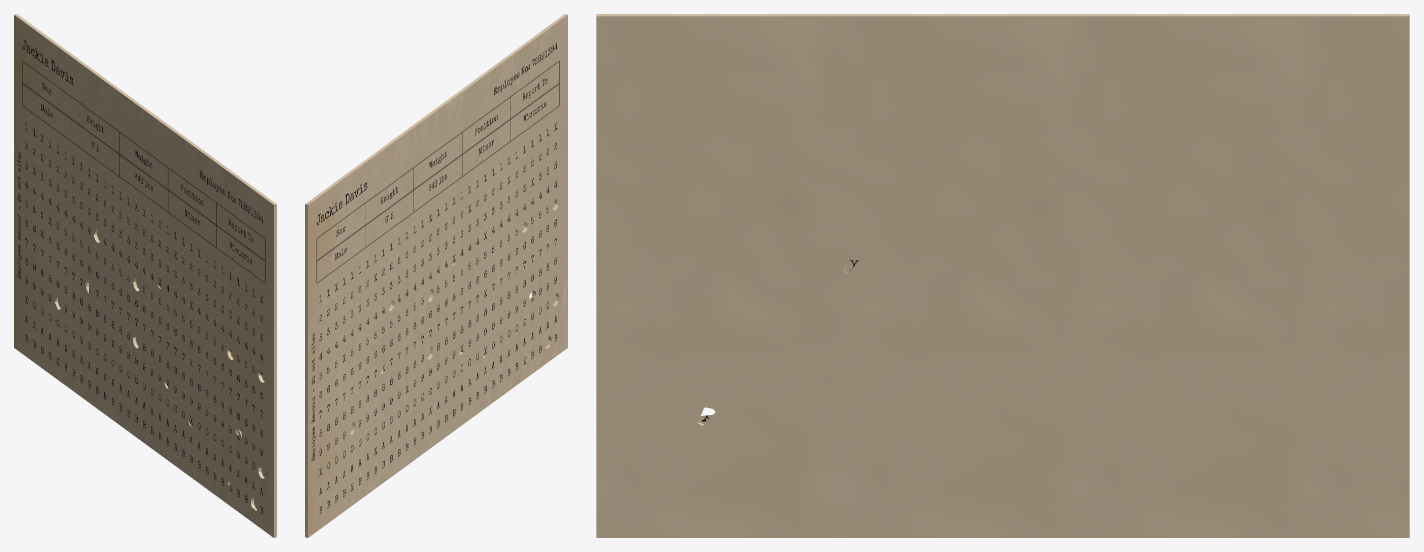
File: employeeCard06Aadi.fbx
3 renders of one model, left to right at view 1: azimuth 30°, elevation 25°; view 2: azimuth 150°, elevation 25°; view 3: azimuth 270°, elevation 25°, orthographic. The views are drawn at different scales.
Parts seen in each view (by area): view 1: Employee 06 Card Puzzle Punched; view 2: Employee 06 Card Puzzle Punched; view 3: Employee 06 Card Puzzle Punched.
Boxes of the visible parts, x1,y1,x2,y2 form: Employee 06 Card Puzzle Punched: (14, 14, 276, 537); Employee 06 Card Puzzle Punched: (305, 14, 567, 537); Employee 06 Card Puzzle Punched: (596, 14, 1409, 537).
Size of the model in its own units: 0.9779 by 100 by 141.
1 material, 1 textured.
